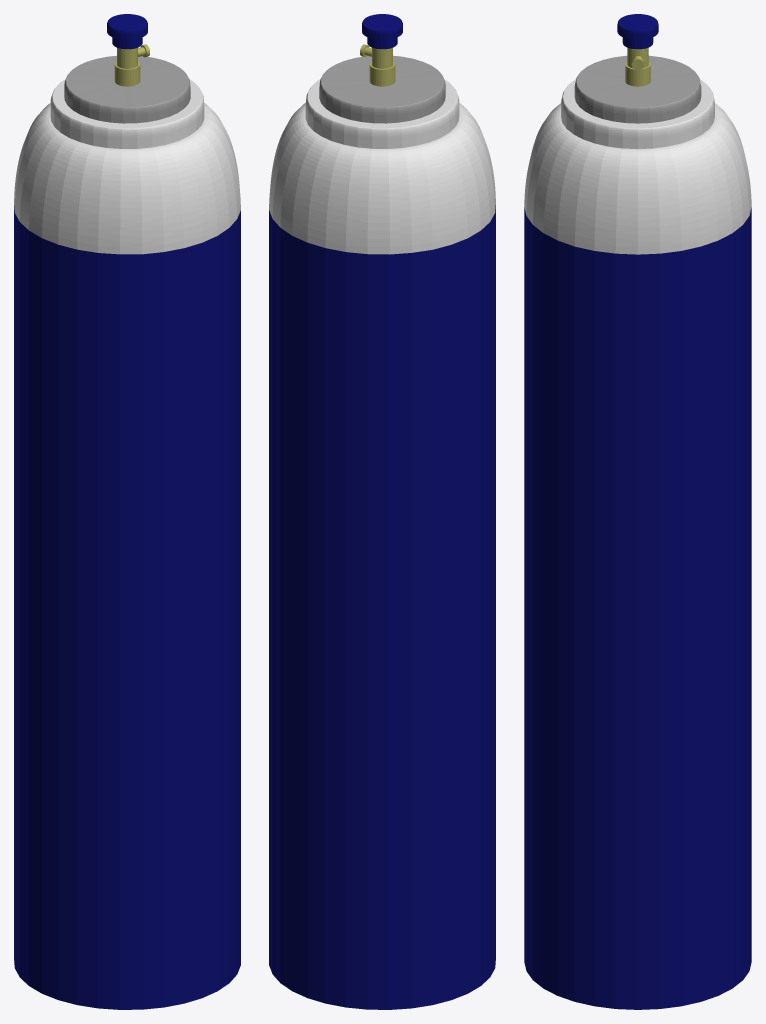
The model's file is Oksijen_tupu1.fbx.
The picture shows the model from 3 angles, left to right: view 1: azimuth 30°, elevation 25°; view 2: azimuth 150°, elevation 25°; view 3: azimuth 270°, elevation 25°; orthographic projection.
Parts seen in each view (by area): view 1: Cylinder; view 2: Cylinder; view 3: Cylinder.
Boxes of the visible parts, x1,y1,x2,y2 form: Cylinder: (14, 14, 240, 1009); Cylinder: (269, 14, 495, 1009); Cylinder: (524, 14, 751, 1009).
Size of the model in its own units: 200 by 912 by 200.
